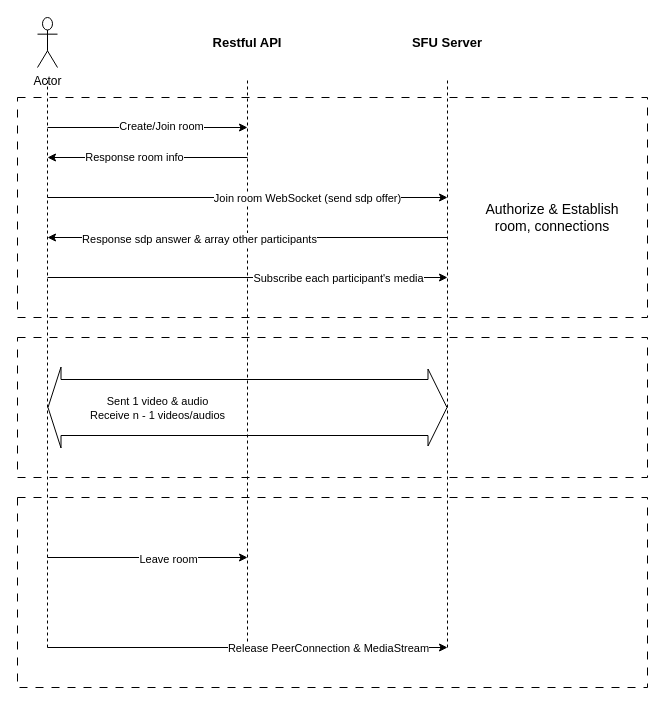
This 665x705 diagram has some shape labels left out. The shapes that lost their labels are listed below. From the top down, each one's centre as x and y in pixels, then its label:
the point at 332,407: During the duration of the meeting
the point at 332,592: Leave room & Release resources (MediaStream,...)
